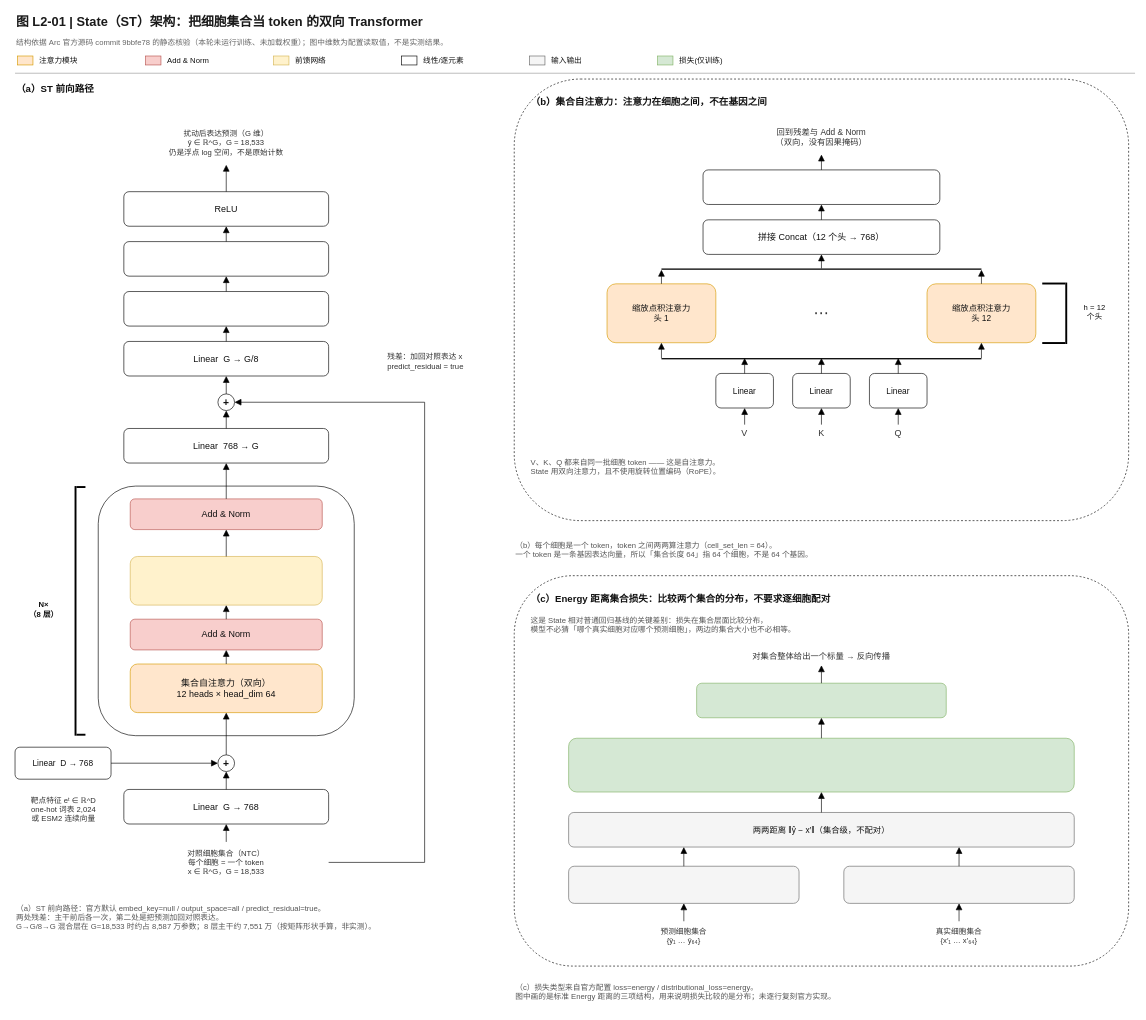
Image size: 1146x1020. Some labels were removed from this diagram. Each missing label, with the centre of its shape:
Energy 距离（分布级损失） 2·E‖P−Q‖ − E‖P−P′‖ − E‖Q−Q′‖ （标准形式；源码配置 loss=energy）: the point at 821,765
GELU: the point at 226,308
Linear 768 → 768: the point at 821,186
Linear G/8 → G: the point at 226,258
前馈网络 Feed Forward hidden 3,072: the point at 226,580
标量损失（仅训练时存在）: the point at 821,700
真实集合（公共训练数据）: the point at 958,884
预测集合（模型输出）: the point at 683,884
